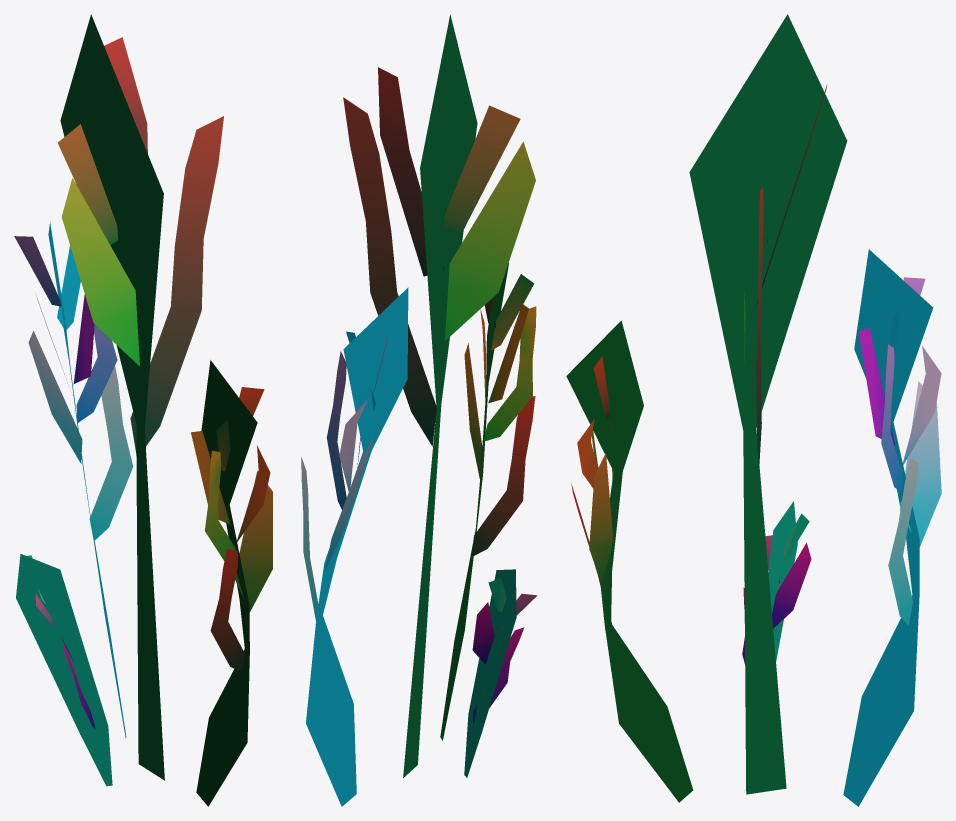
The model's file is Nordic_Coastal_Groundcover_vlqkdeaja_Mid_vlqkdeaja_VarF_LOD1.fbx.
3 renders of one model, left to right at view 1: azimuth 30°, elevation 25°; view 2: azimuth 150°, elevation 25°; view 3: azimuth 270°, elevation 25°, orthographic. The views are drawn at different scales.
Parts seen in each view (by area): view 1: _by3v_VarF_LOD3; view 2: _by3v_VarF_LOD3; view 3: _by3v_VarF_LOD3.
Boxes of the visible parts, <box> form: _by3v_VarF_LOD3: <box>14,14,272,806</box>; _by3v_VarF_LOD3: <box>301,14,537,806</box>; _by3v_VarF_LOD3: <box>566,14,941,806</box>.
Size of the model in its own units: 21.53 by 83.45 by 37.42.
